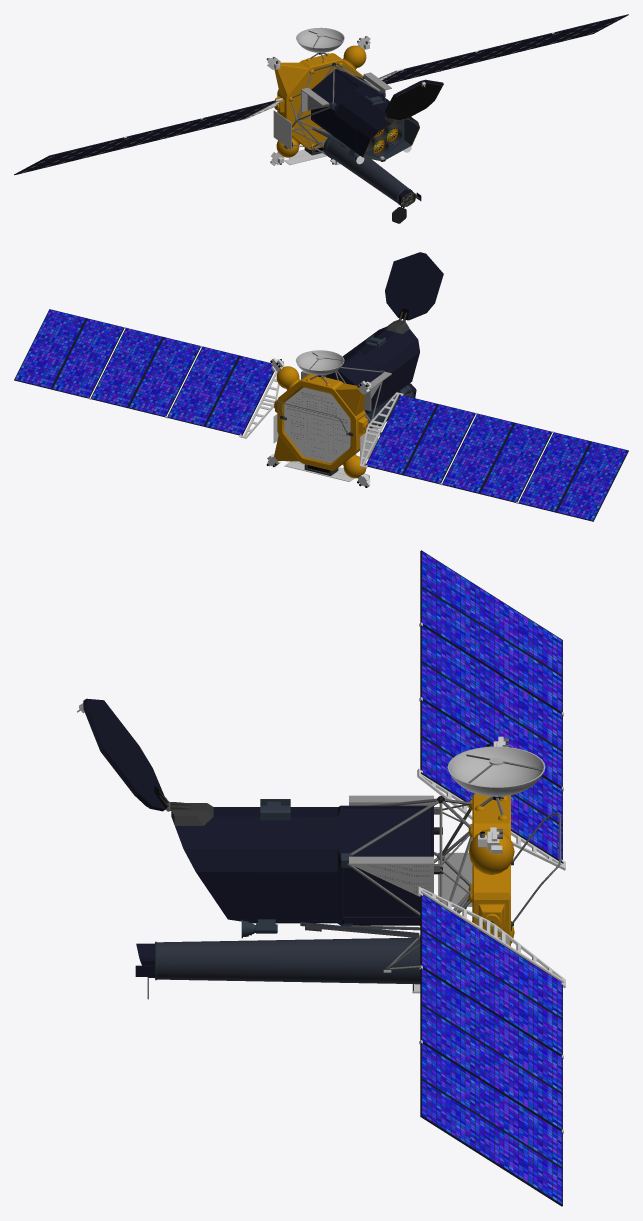
3 views of the same model, one above another, from view 1: azimuth 30°, elevation 25°; view 2: azimuth 150°, elevation 25°; view 3: azimuth 270°, elevation 25° (orthographic). The views are drawn at different scales.
Visible parts, largest first — view 1: SpectrRG; view 2: SpectrRG; view 3: SpectrRG.
Boxes of the visible parts, bbox=[...] form: SpectrRG: bbox=[14, 14, 628, 223]; SpectrRG: bbox=[14, 252, 628, 521]; SpectrRG: bbox=[77, 550, 565, 1206].
Size of the model in its own units: 7.59 by 1.91 by 2.78.
2 materials, 1 textured.
